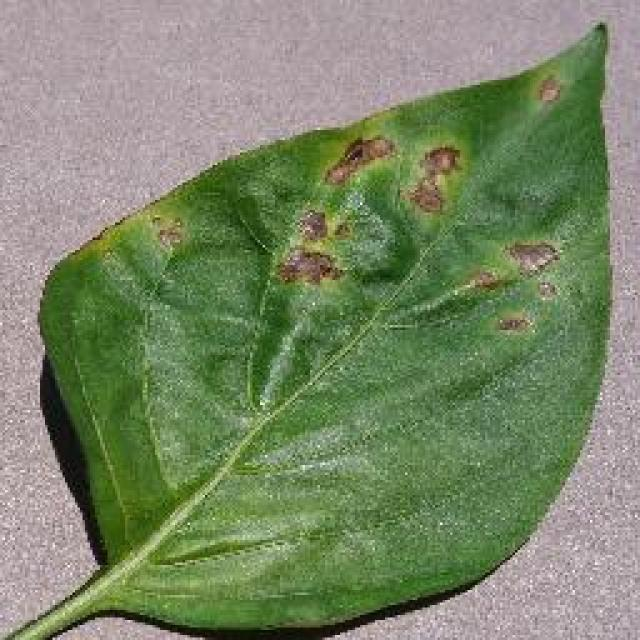Chilli_Bacterial_Spot: (22, 18, 618, 638), (268, 128, 568, 342), (460, 232, 565, 340), (270, 202, 352, 292), (400, 140, 465, 218), (320, 130, 398, 190), (272, 245, 342, 290), (500, 235, 562, 280), (145, 210, 190, 255), (402, 175, 448, 217), (418, 142, 462, 180), (292, 205, 330, 245), (530, 70, 565, 108), (463, 265, 505, 295), (490, 310, 532, 338)
